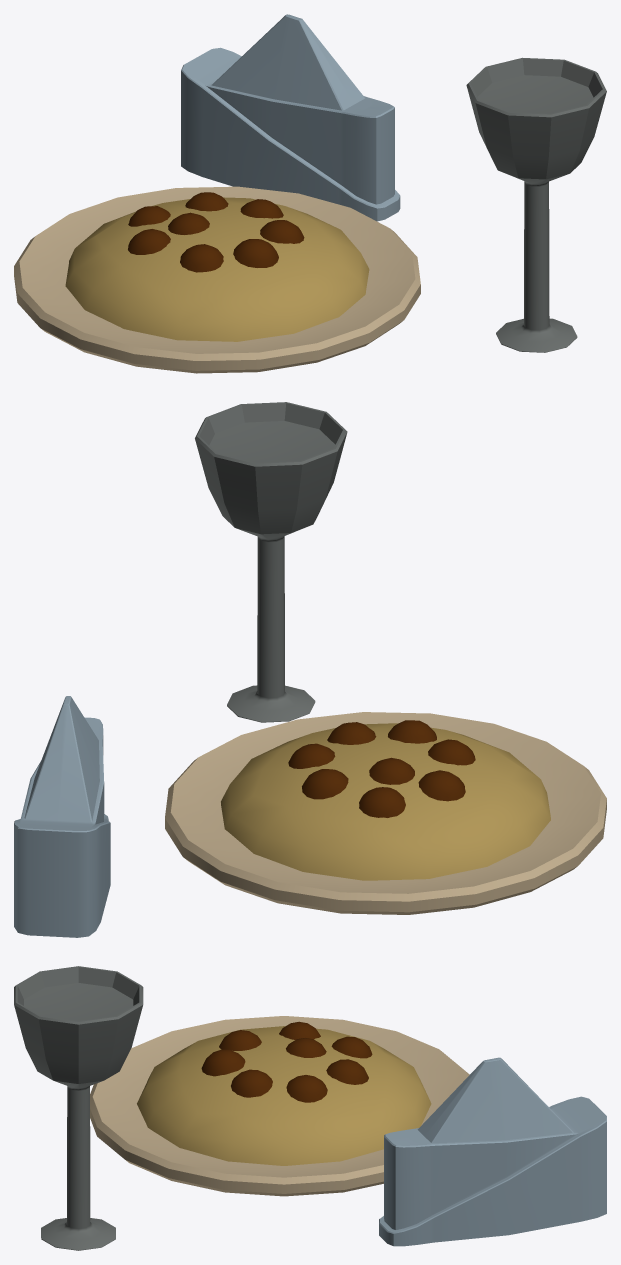
The model's file is diningSetProp_HWG.fbx.
3 views of the same model, one above another, from view 1: azimuth 30°, elevation 25°; view 2: azimuth 150°, elevation 25°; view 3: azimuth 270°, elevation 25° (orthographic). The views are drawn at different scales.
Parts seen in each view (by area): view 1: diningsetupprop; view 2: diningsetupprop; view 3: diningsetupprop.
Part boxes in pixels (left/top/right/bottom): diningsetupprop: left=14, top=14, right=606, bottom=373; diningsetupprop: left=14, top=402, right=606, bottom=937; diningsetupprop: left=14, top=966, right=606, bottom=1250.
Bounding box in the file's own units: 27.9 × 14.77 × 33.05.
